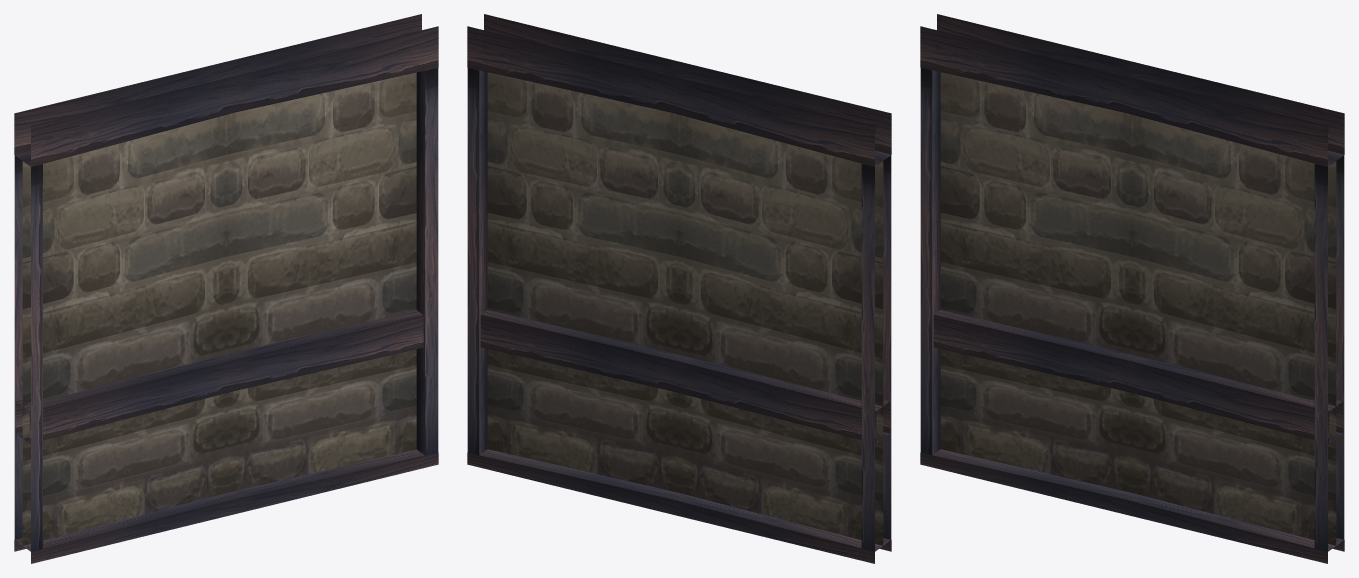
Rendered from Wall_2sided_detailed_2ndFloor_Bricks.fbx.
3 renders of one model, left to right at view 1: azimuth 30°, elevation 25°; view 2: azimuth 150°, elevation 25°; view 3: azimuth 330°, elevation 25°, orthographic.
Parts seen in each view (by area): view 1: Wall_2sided_detailed_2ndFloor_Bricks; view 2: Wall_2sided_detailed_2ndFloor_Bricks; view 3: Wall_2sided_detailed_2ndFloor_Bricks.
Boxes of the visible parts, x1,y1,x2,y2 form: Wall_2sided_detailed_2ndFloor_Bricks: (14,14,438,563); Wall_2sided_detailed_2ndFloor_Bricks: (467,14,891,563); Wall_2sided_detailed_2ndFloor_Bricks: (920,14,1344,563).
Size of the model in its own units: 0.6266 by 0.6442 by 0.0445.
